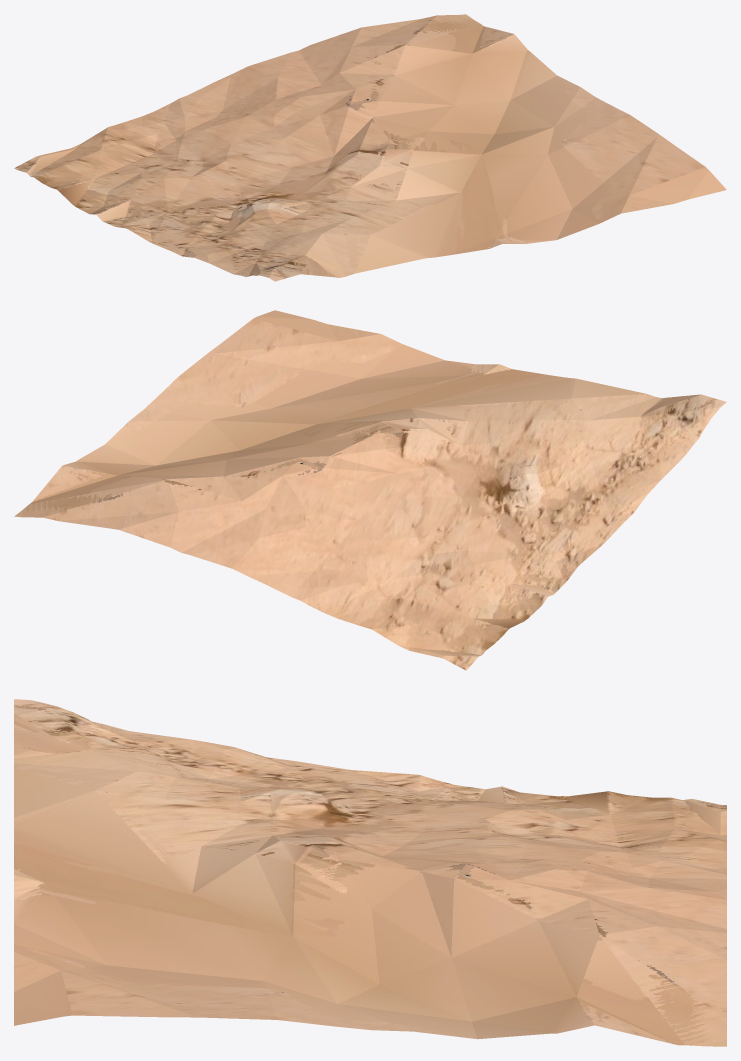
3 views of the same model, one above another, from view 1: azimuth 30°, elevation 25°; view 2: azimuth 150°, elevation 25°; view 3: azimuth 270°, elevation 25° (orthographic). The views are drawn at different scales.
Size of the model in its own units: 1.04 by 0.1741 by 1.04.
3 materials, 3 textured.
